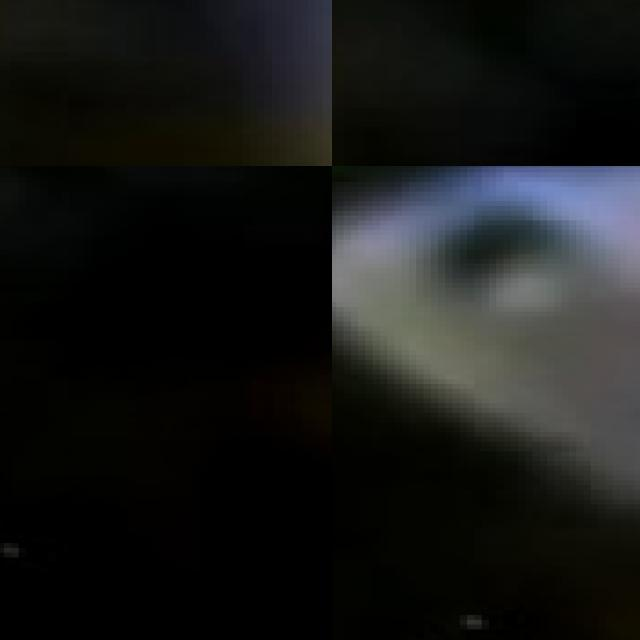fish: (332, 166, 640, 640), (0, 0, 332, 166)
